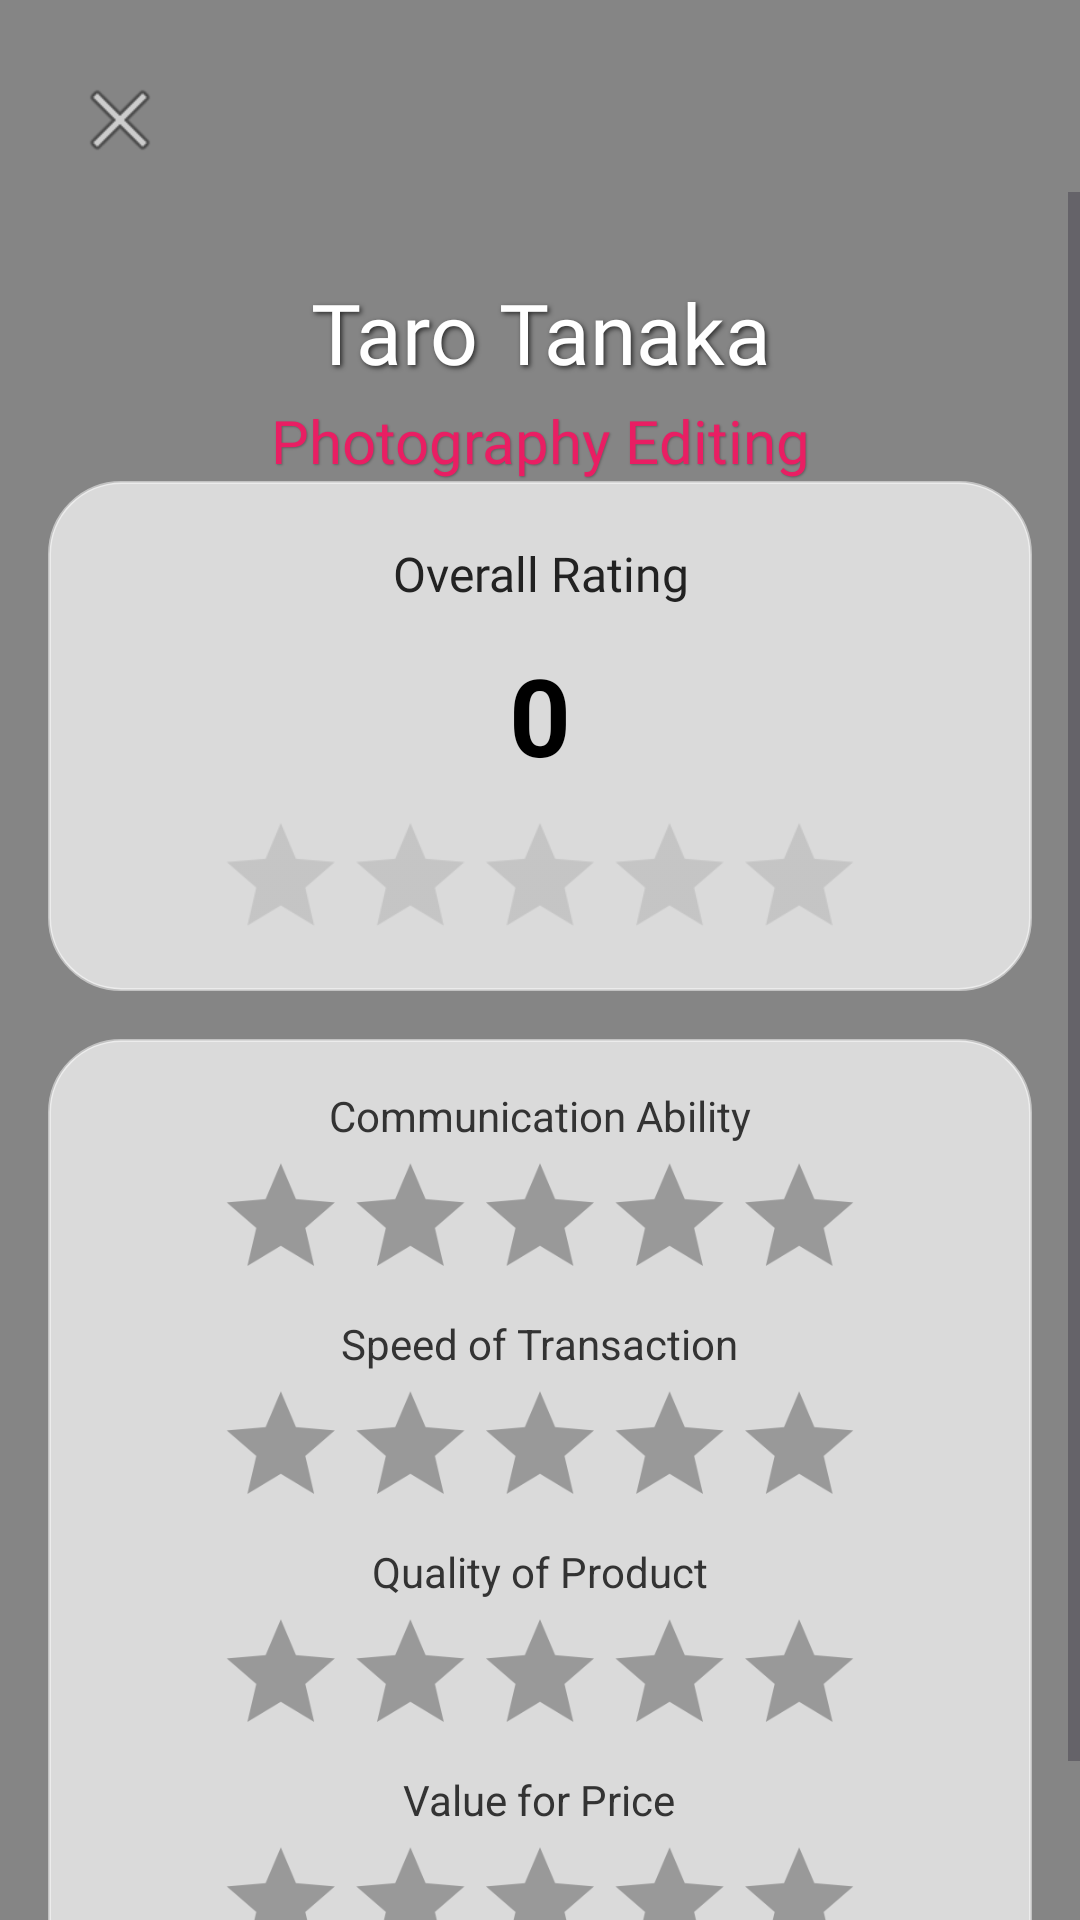

Named icons in this screenshot (1080 x 1920) and their bounding boxes, (x1, y1, x2, y2):
Exit: (90, 90, 150, 150)
